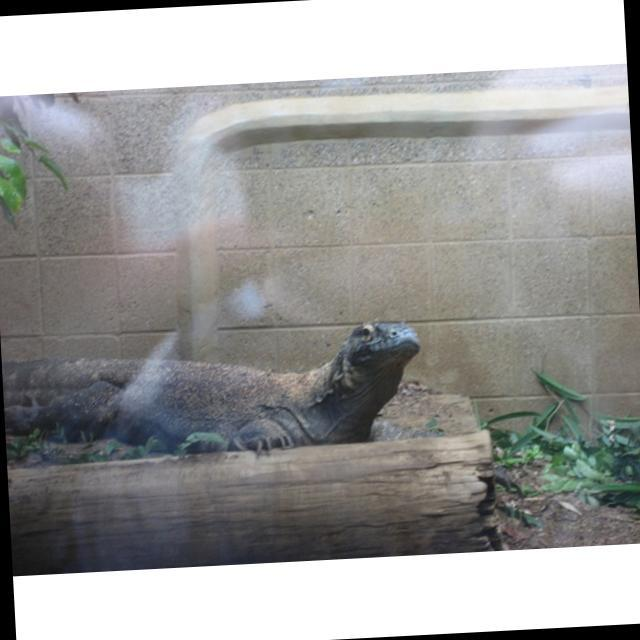KomodoDragon: (2, 315, 429, 472)
